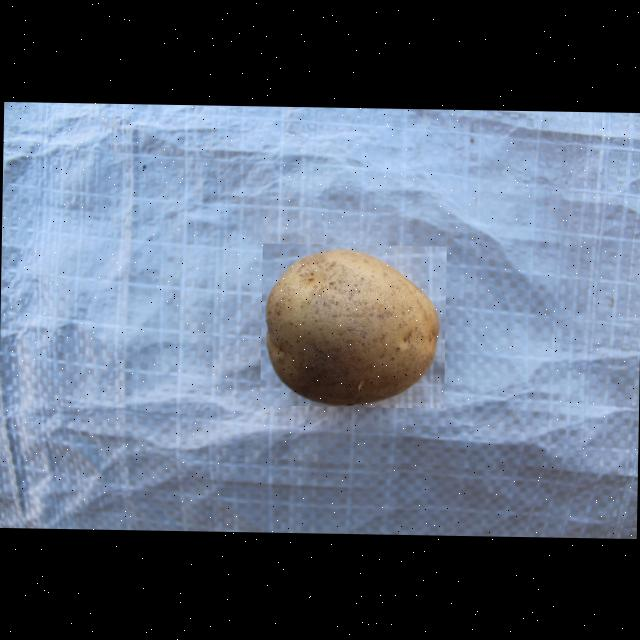Diseased-fungal potato: (259, 243, 446, 408)
